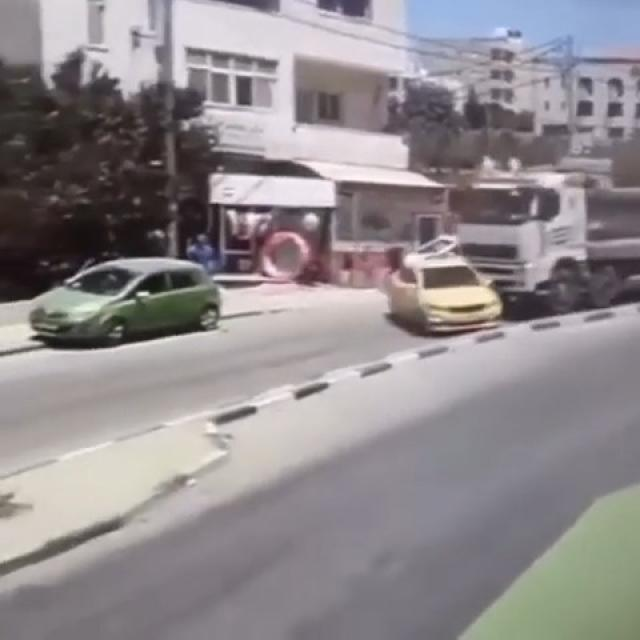accident: (392, 172, 640, 332)
